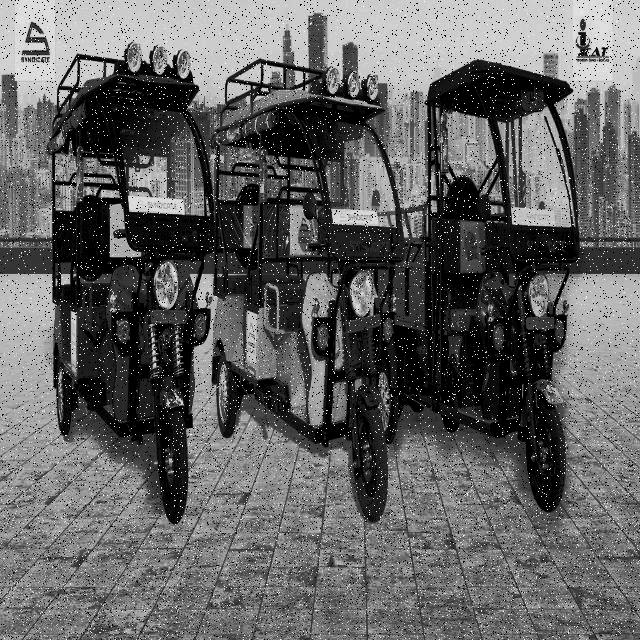Toto: (44, 66, 218, 514), (214, 92, 398, 512), (429, 67, 571, 530)
